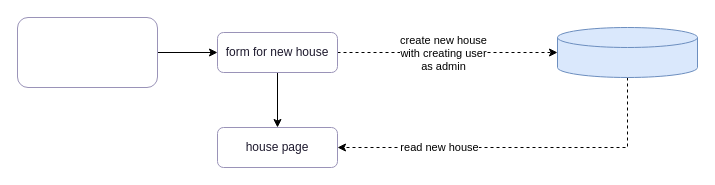
The diagram is 715 pixels wide and 185 high, and some of its shapes have lost their labels. The shapes that lost their labels are listed below. From the top down, each one's box as (x1, y1, x2, y2) in pixels, then its label:
(16, 16, 158, 88): user selects '+ add new house' on welcome page
(556, 26, 698, 78): houses
